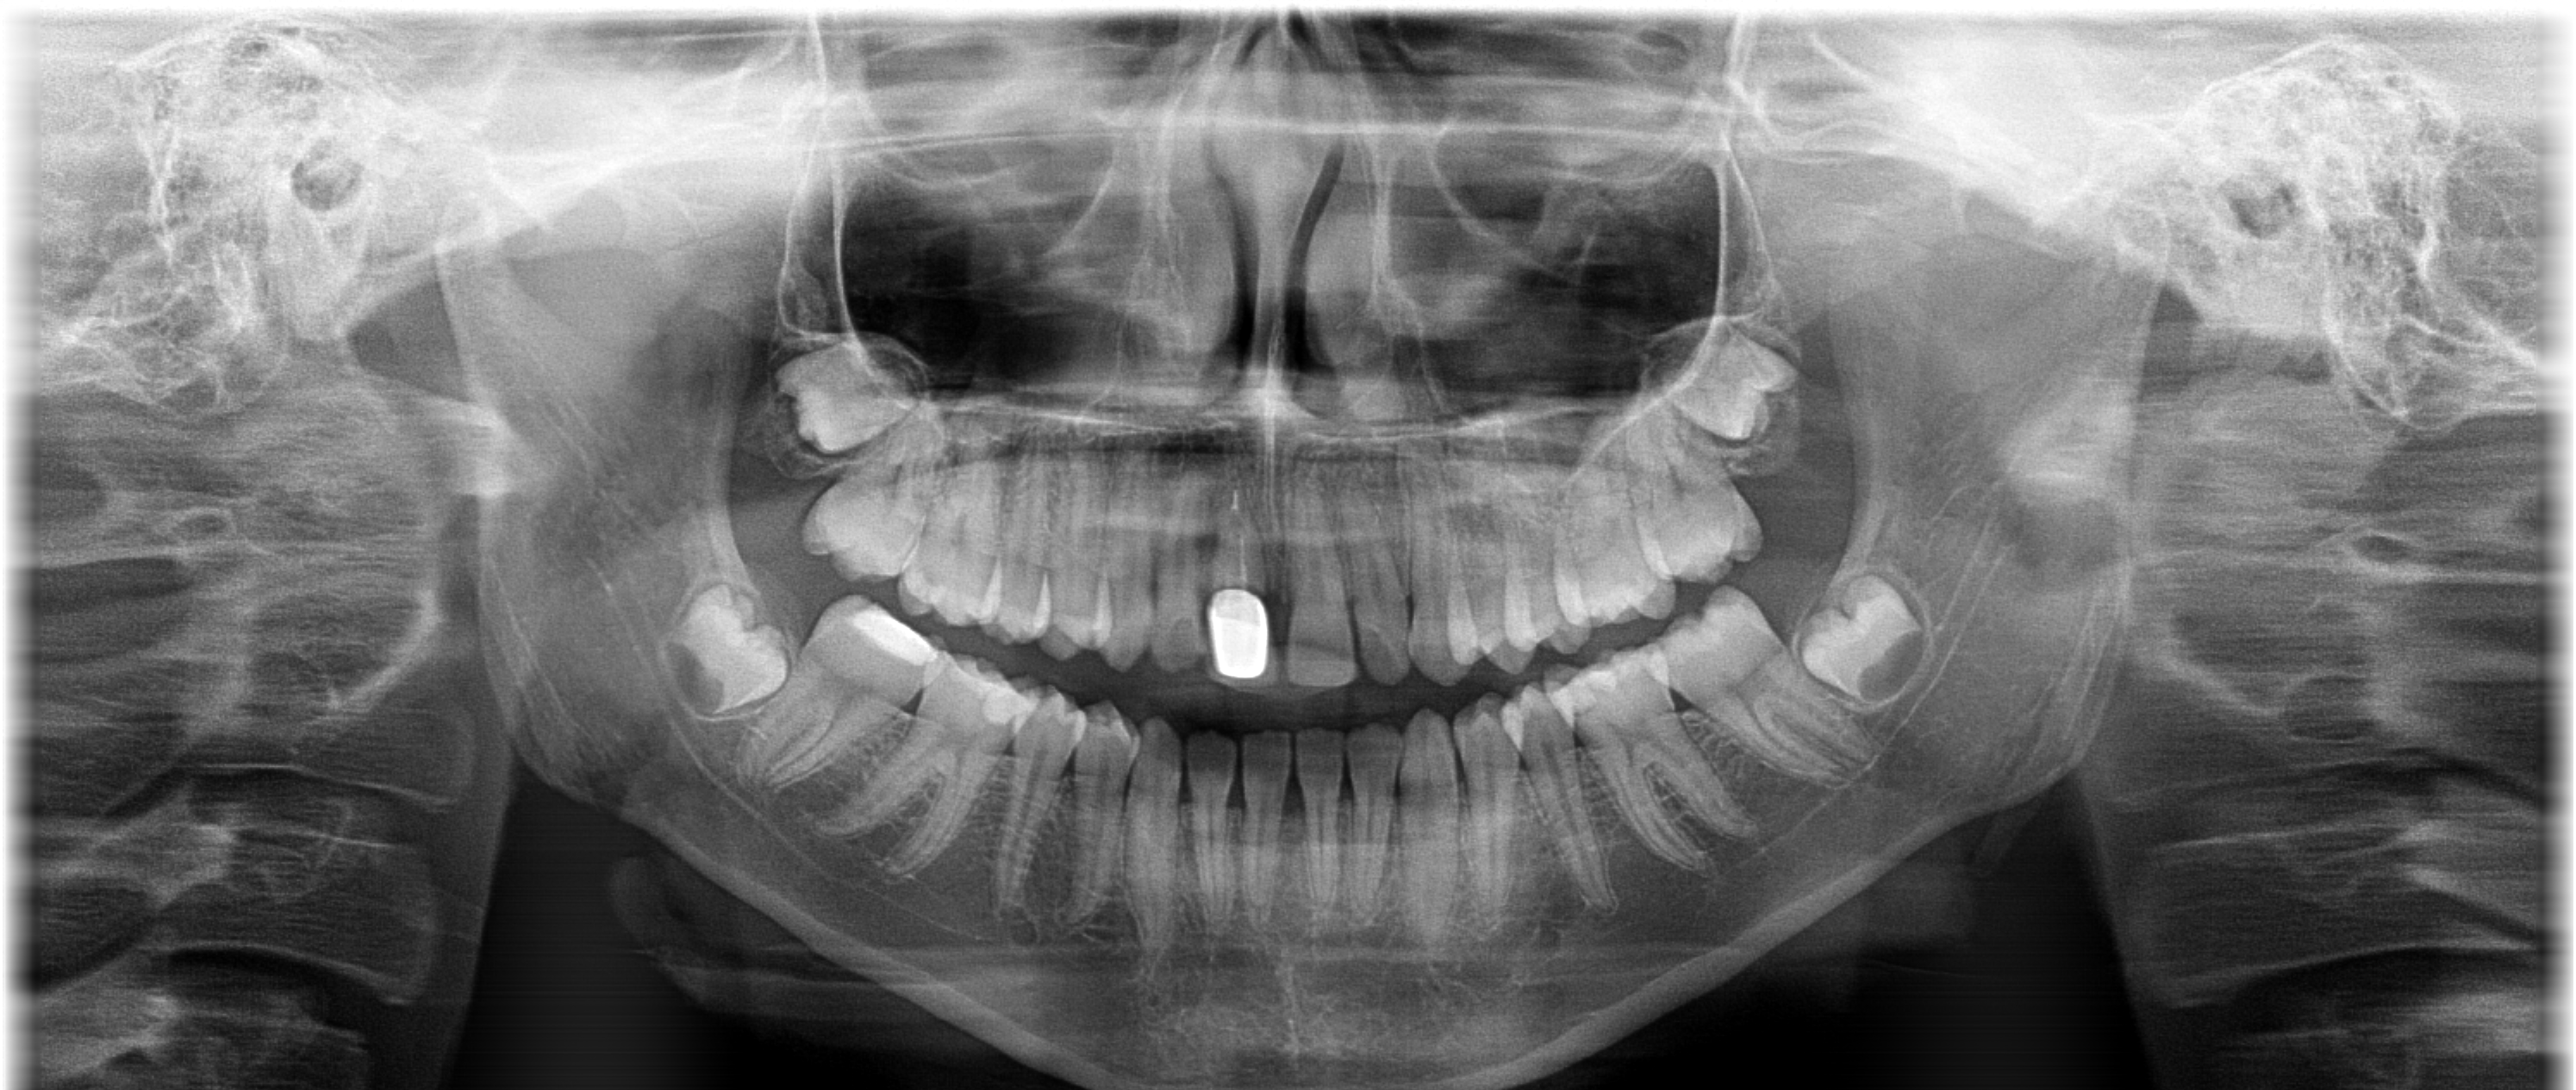cordal: (1621, 287, 1820, 471), (1774, 556, 1960, 722), (642, 565, 823, 734), (734, 320, 945, 465)
diastema: (1217, 722, 1263, 898)
diente_rotado: (1380, 698, 1479, 977)
